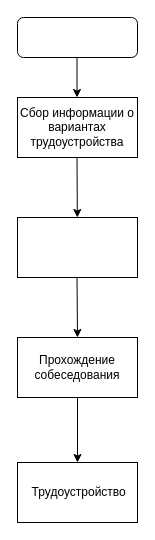
Some shapes in this 155 by 540 pixel diagram are drawn without their labels. Here are the shapes that lost their labels. From the top down, the box of each, then its label:
(16, 16, 138, 58): Постановка цели
(16, 216, 138, 278): Подготовка резюме
